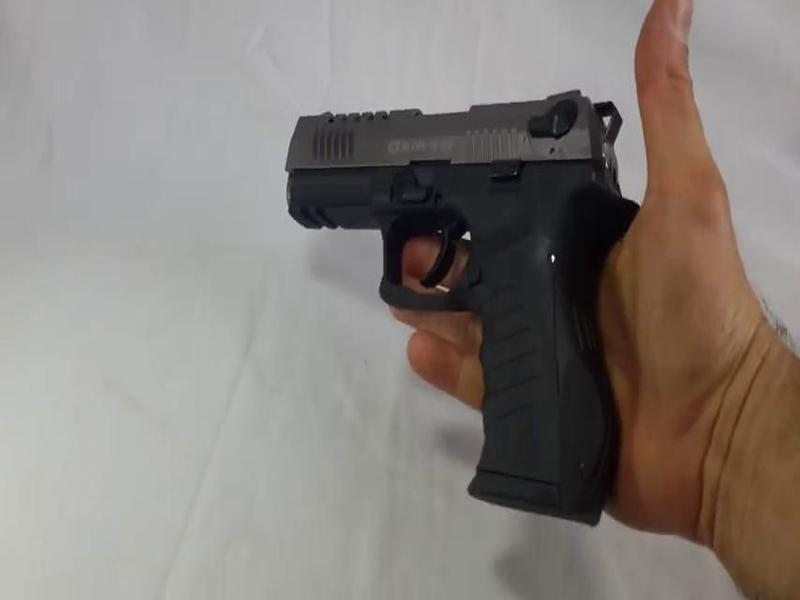Pistola: (262, 82, 653, 516)
